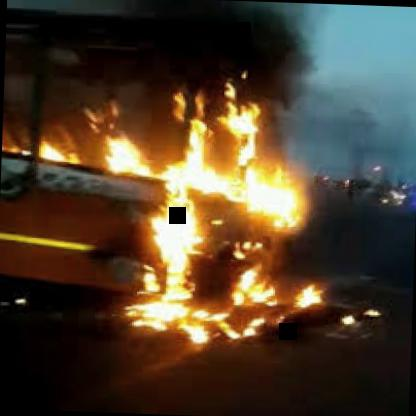fire: (0, 9, 324, 350)
